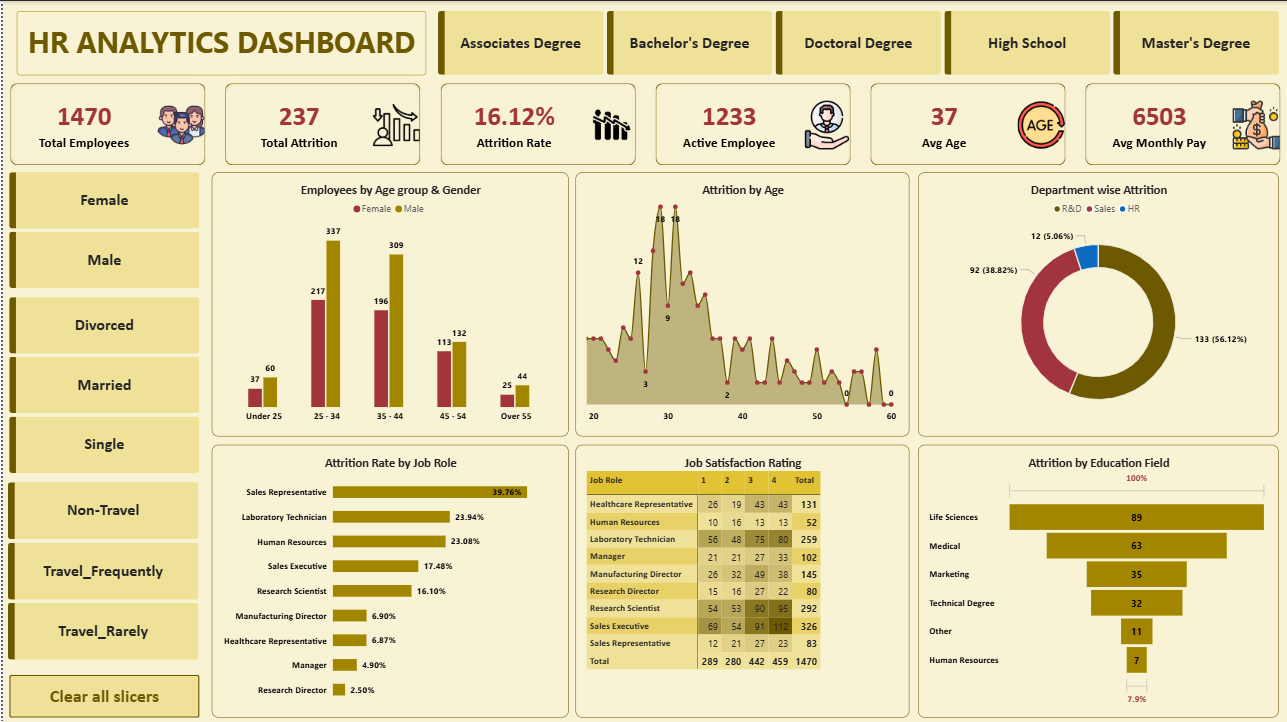

The dashboard page shown, as its layout file describes it:
{"tool":"powerbi","page":{"name":"Dashboard","canvas":[1920,1080],"ordinal":0},"visuals":[{"type":"cardVisual","fields":{"Data":["HR data.Total Employees","HR data.Total Attrition","HR data.Attrition Rate","HR data.Active Employee","Avg(HR data.Age)","Avg(HR data.Monthly Income)"]},"box":[0,111.4,1920,144.3],"z":0},{"type":"clusteredColumnChart","title":"Employees by Age group & Gender","fields":{"Category":["HR data.Age Group"],"Series":["HR data.Gender"],"Y":["HR data.Total Employees"]},"box":[311.4,255.7,532.9,394.3],"z":1000},{"type":"areaChart","title":"Attrition by Age","fields":{"Category":["HR data.Age"],"Y":["HR data.Total Attrition"]},"box":[854.3,255.7,498.6,394.3],"z":2000},{"type":"donutChart","title":"Department wise Attrition","fields":{"Category":["HR data.Department"],"Y":["HR data.Total Attrition"]},"box":[1365.7,255.7,538.6,394.3],"z":3000},{"type":"clusteredBarChart","fields":{"Category":["HR data.Job Role"],"Y":["HR data.Attrition Rate"]},"box":[311.4,663.3,532.9,407.1],"z":4000},{"type":"pivotTable","title":"Job Satisfaction Rating","fields":{"Columns":["HR data.Job Satisfaction"],"Rows":["HR data.Job Role"],"Values":["HR data.Total Employees"]},"box":[854.3,663.3,498.6,407.1],"z":5000},{"type":"funnel","title":"Attrition by Education Field","fields":{"Category":["HR data.Education Field"],"Y":["HR data.Total Attrition"]},"box":[1365.7,663.3,538.6,407.1],"z":6000},{"type":"advancedSlicerVisual","fields":{"Values":["HR data.Gender"]},"box":[10,255.7,284.3,174.3],"z":7000},{"type":"advancedSlicerVisual","fields":{"Values":["HR data.Marital Status"]},"box":[10,442.9,284.3,262.9],"z":8000},{"type":"advancedSlicerVisual","fields":{"Values":["HR data.Business Travel"]},"box":[7.1,718.6,284.3,265.7],"z":9000},{"type":"advancedSlicerVisual","fields":{"Values":["HR data.Education"]},"box":[648.6,15.7,1255.7,95.7],"z":10000},{"type":"actionButton","box":[10,1005.7,284.3,64.3],"z":11000},{"type":"textbox","box":[20,15.7,611.4,95.7],"z":12000}]}

Visuals, with their boxes in screenshot pixels (x1, y1, x2, y2), scaled from the page's 1920x1080 canvas onto the 1287x722 screenshot:
cardVisual - HR data.Total Employees x HR data.Total Attrition: bbox(0, 74, 1286, 171)
"Employees by Age group & Gender" clusteredColumnChart: bbox(209, 171, 566, 435)
"Attrition by Age" areaChart: bbox(573, 171, 907, 435)
"Department wise Attrition" donutChart: bbox(915, 171, 1276, 435)
clusteredBarChart - HR data.Job Role x HR data.Attrition Rate: bbox(209, 443, 566, 716)
"Job Satisfaction Rating" pivotTable: bbox(573, 443, 907, 716)
"Attrition by Education Field" funnel: bbox(915, 443, 1276, 716)
advancedSlicerVisual - HR data.Gender: bbox(7, 171, 197, 287)
advancedSlicerVisual - HR data.Marital Status: bbox(7, 296, 197, 472)
advancedSlicerVisual - HR data.Business Travel: bbox(5, 480, 195, 658)
advancedSlicerVisual - HR data.Education: bbox(435, 10, 1276, 74)
actionButton: bbox(7, 672, 197, 715)
textbox: bbox(13, 10, 423, 74)
